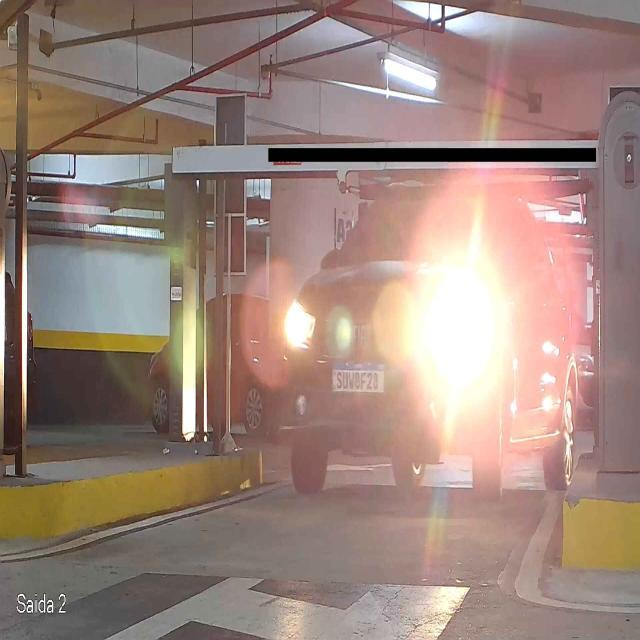mercosul_plate: (331, 360, 386, 394)
